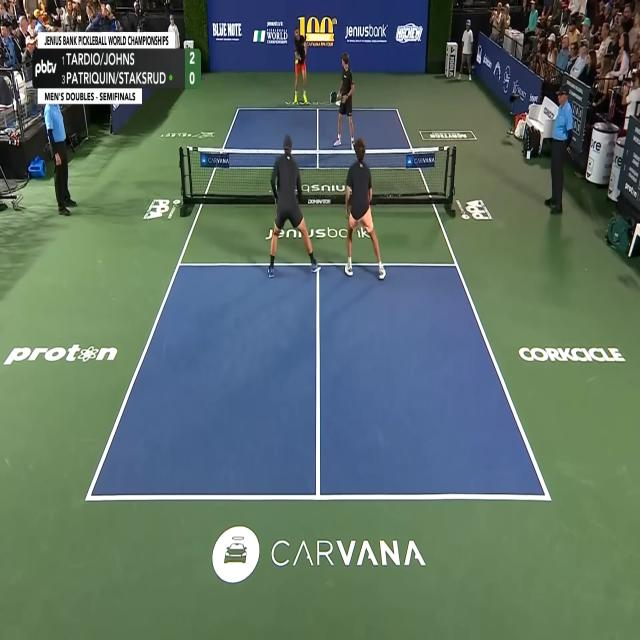ball: (296, 59, 298, 64)
